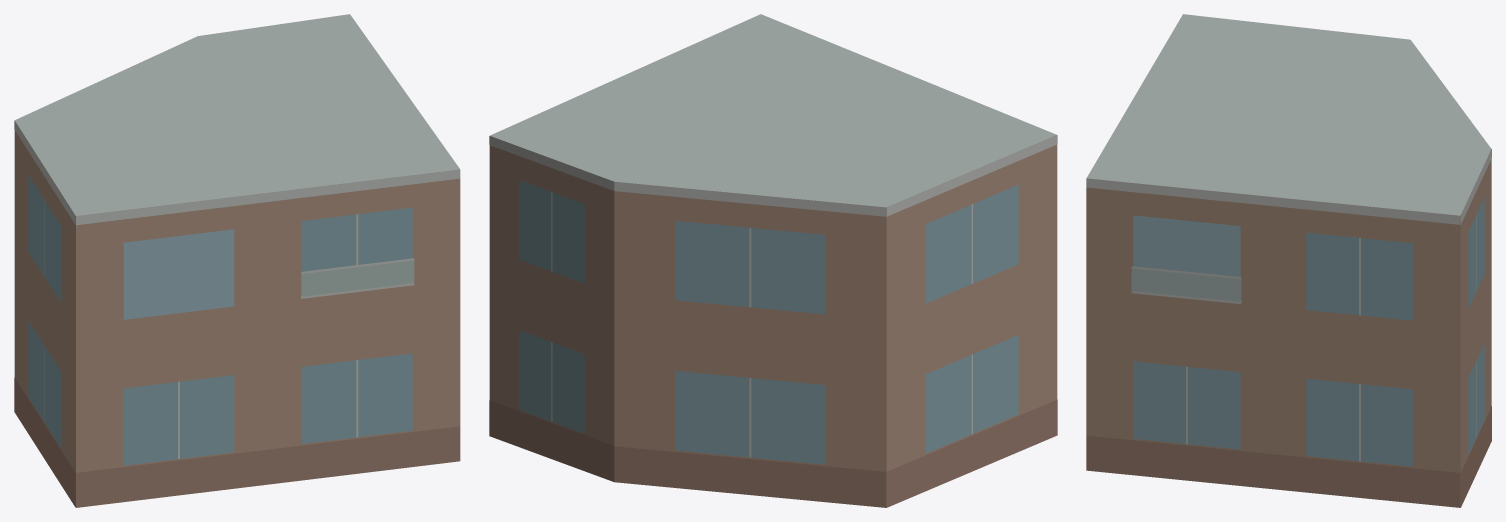
File: survey-upis-32658824.glb
The picture shows the model from 3 angles, left to right: view 1: azimuth 30°, elevation 25°; view 2: azimuth 150°, elevation 25°; view 3: azimuth 270°, elevation 25°; orthographic projection. The views are drawn at different scales.
Visible parts, largest first — view 1: survey-upis-32658824.tmp; view 2: survey-upis-32658824.tmp; view 3: survey-upis-32658824.tmp.
Part boxes in pixels (x1=…): survey-upis-32658824.tmp: x1=14, y1=14, x2=460, y2=507; survey-upis-32658824.tmp: x1=489, y1=14, x2=1057, y2=507; survey-upis-32658824.tmp: x1=1086, y1=14, x2=1491, y2=507.
Bounding box in the file's own units: 11.56 × 7.8 × 9.82.
